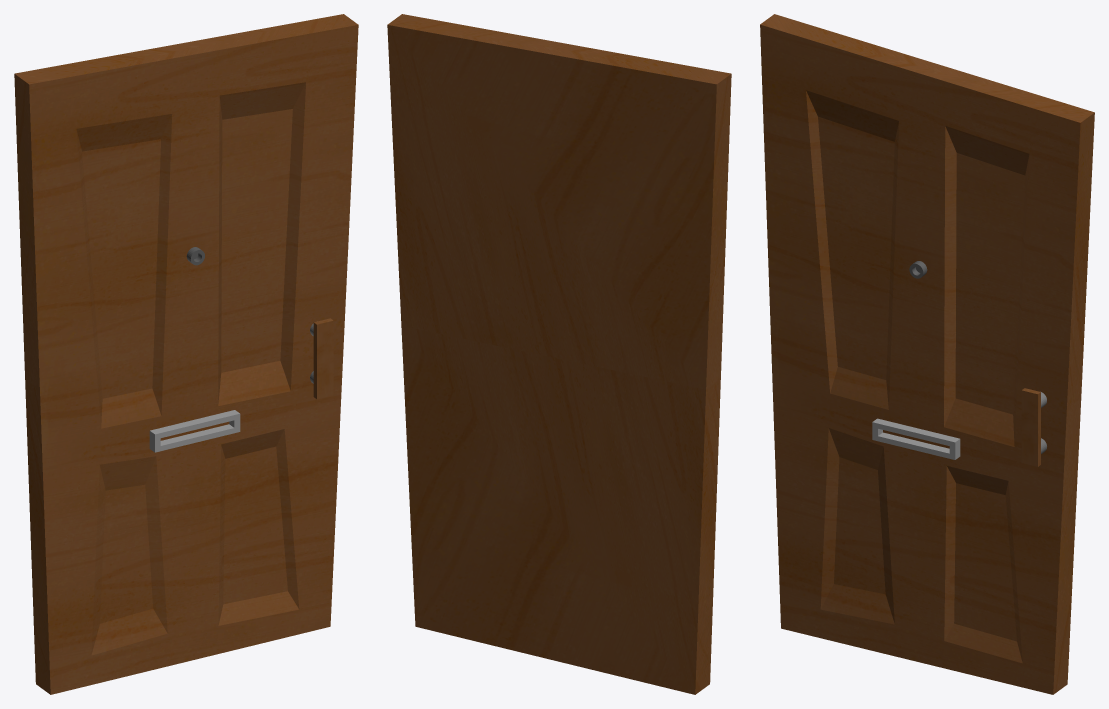
Rendered from door-1.fbx.
3 renders of one model, left to right at view 1: azimuth 30°, elevation 25°; view 2: azimuth 150°, elevation 25°; view 3: azimuth 330°, elevation 25°, orthographic. The views are drawn at different scales.
Visible parts, largest first — view 1: Object_7, Object_3, Object_2; view 2: Object_7; view 3: Object_7, Object_3, Object_2.
Part boxes in pixels (x1,y1,x2,y2): Object_7: [14, 14, 358, 694]; Object_3: [149, 410, 240, 452]; Object_2: [313, 318, 333, 399]; Object_7: [387, 14, 731, 694]; Object_7: [760, 14, 1094, 694]; Object_3: [872, 418, 960, 459]; Object_2: [1021, 388, 1040, 466].
Size of the model in its own units: 79.14 by 141 by 10.08.
6 materials, 2 textured.
